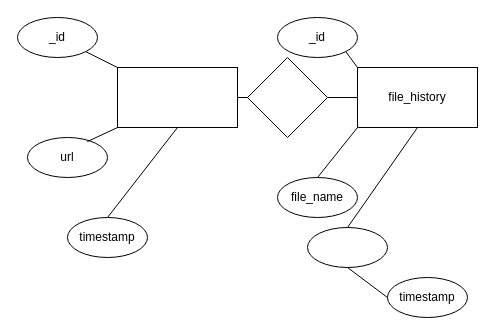
The diagram is 495 pixels wide and 335 high, and some of its shapes have lost their labels. Here are the shapes that lost their labels. From the top down, the box of each, then its label:
(116, 66, 238, 128): scrape_history
(246, 56, 328, 138): related_to
(306, 226, 388, 268): file_path
